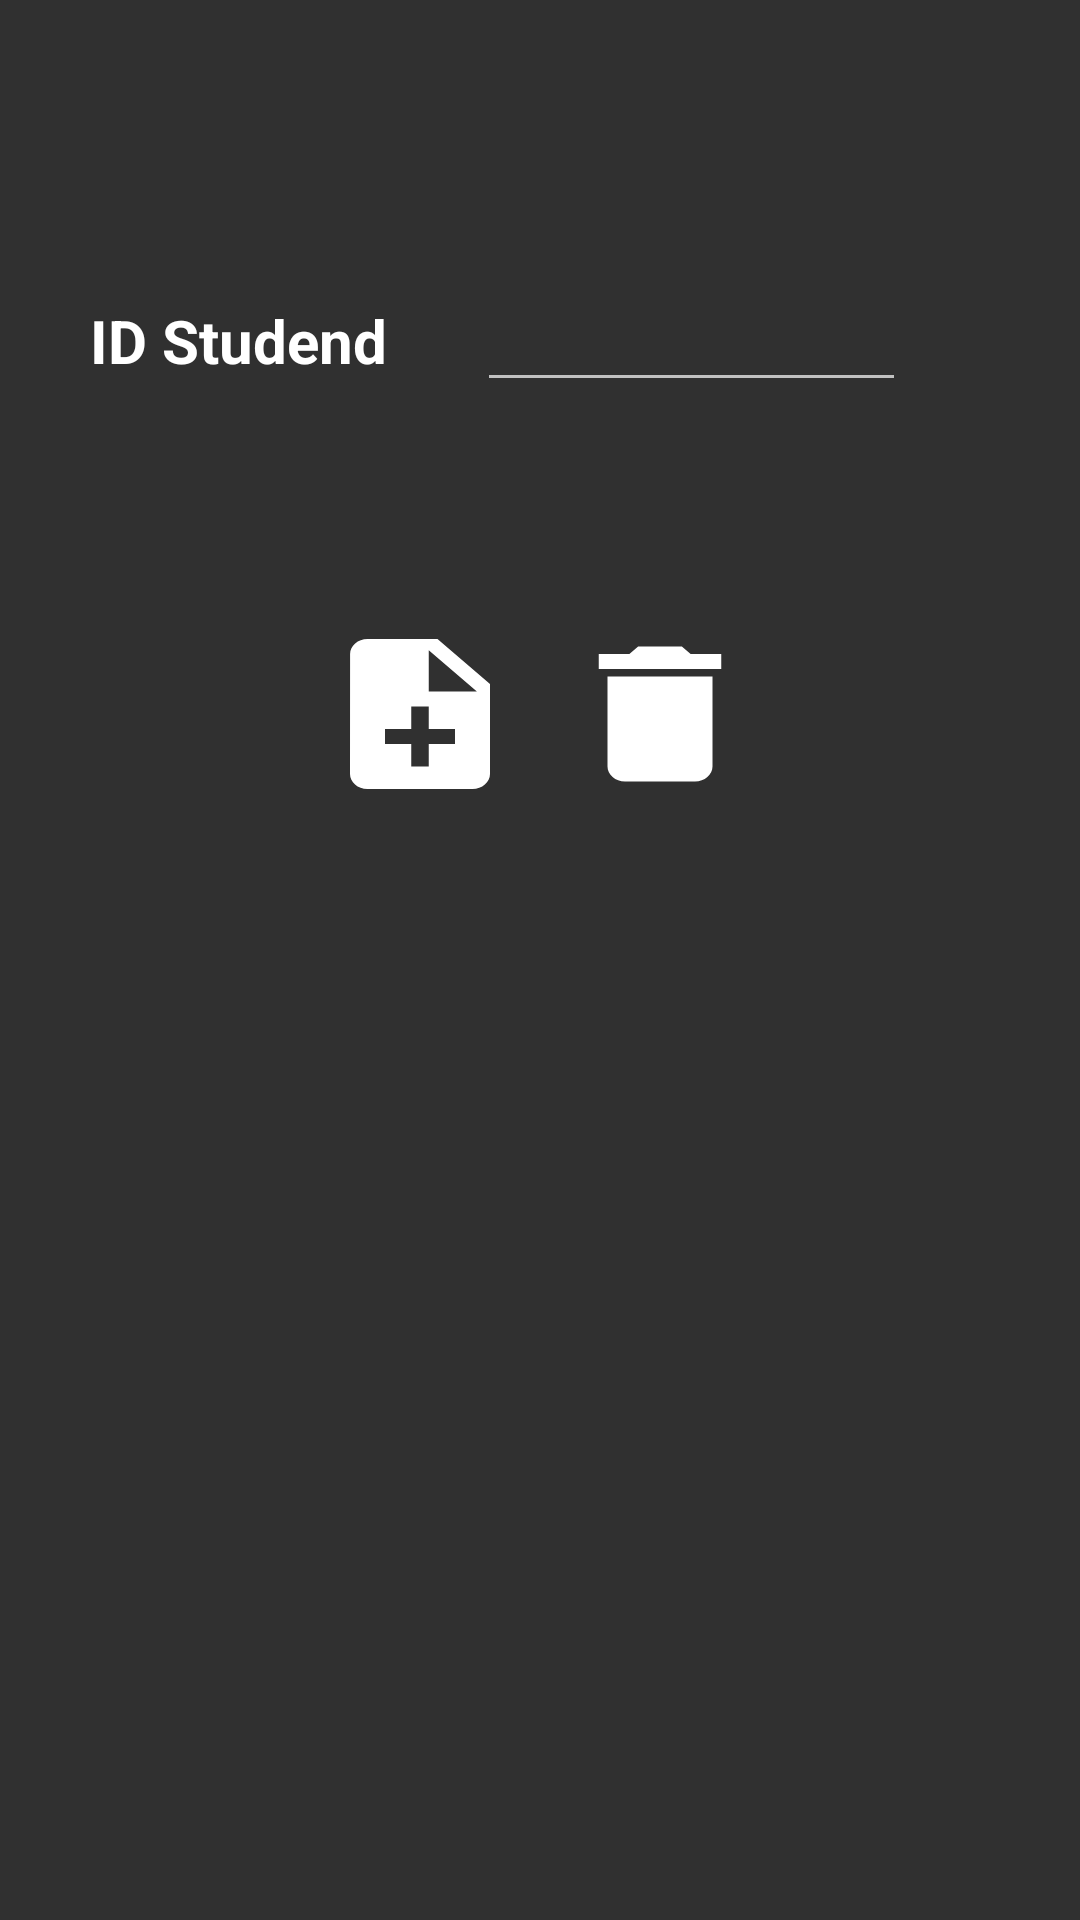

Icons on this 1080px x 1920px Android screen, each with the point to tap as (x=x, y=y):
delete: (x=660, y=714)
note add: (x=420, y=714)
